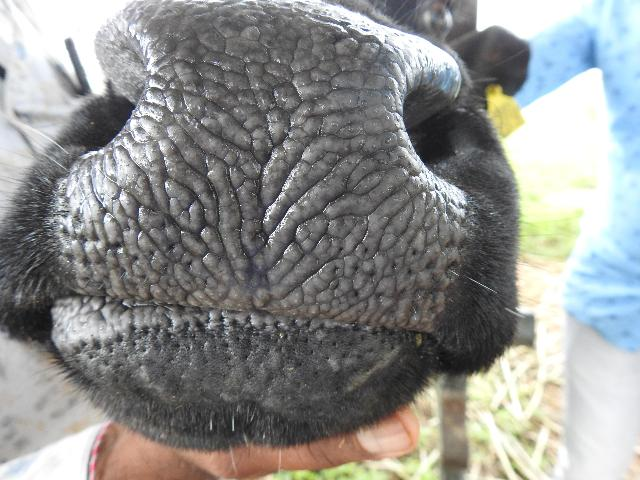Muzzle: (144, 7, 398, 321)
